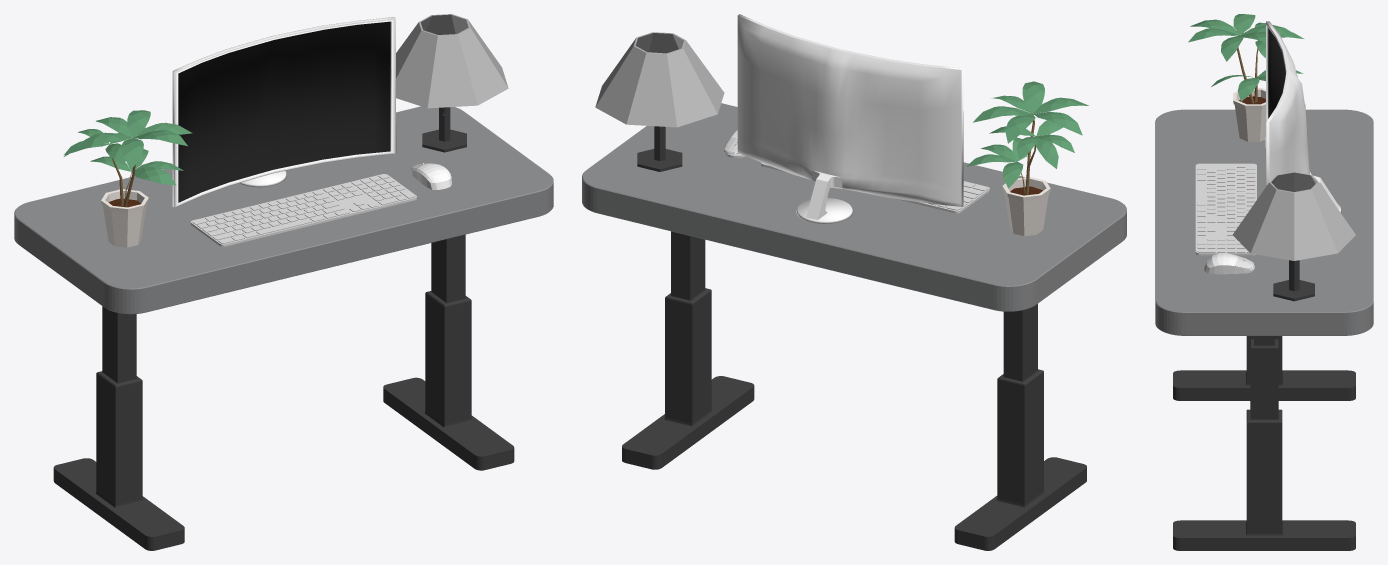
The model's file is ComputerDesk.glb.
3 views of the same model, side by side, from view 1: azimuth 30°, elevation 25°; view 2: azimuth 150°, elevation 25°; view 3: azimuth 270°, elevation 25° (orthographic). The views are drawn at different scales.
Parts seen in each view (by area): view 1: Table, monitor, lamp, keyboard, leaf.004_6, pot_0, leaf.003_5, mouse; view 2: Table, monitor, lamp, leaf.004_6, pot_0, leaf.014_7, leaf.003_5, keyboard; view 3: Table, lamp, monitor, keyboard, leaf.004_6, pot_0, mouse, leaf.003_5.
Boxes of the visible parts, x1,y1,x2,y2 form: Table: (14,106,553,550); monitor: (172,17,396,207); lamp: (396,14,508,152); keyboard: (190,174,416,246); leaf.004_6: (75,110,192,168); pot_0: (101,189,148,247); leaf.003_5: (90,149,183,185); mouse: (410,163,451,189); Table: (582,103,1126,550); monitor: (737,14,963,223); lamp: (595,32,724,171); leaf.004_6: (973,81,1088,143); pot_0: (1002,177,1050,236); leaf.014_7: (989,120,1074,168); leaf.003_5: (966,137,1027,188); keyboard: (761,162,989,213); Table: (1155,109,1373,550); lamp: (1232,171,1355,301); monitor: (1265,21,1341,212); keyboard: (1195,163,1256,255); leaf.004_6: (1188,14,1298,61); pot_0: (1233,88,1265,141); mouse: (1204,253,1254,274); leaf.003_5: (1211,70,1303,101).
Bounding box in the file's own units: 4.75 × 4.22 × 2.11.
